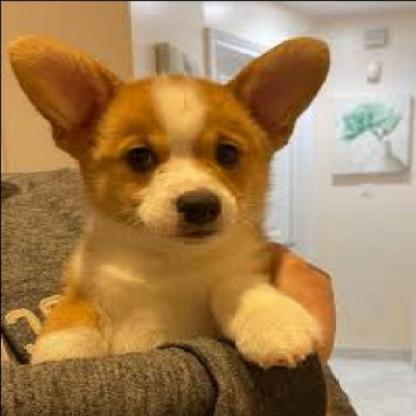dog: (8, 32, 338, 372)
